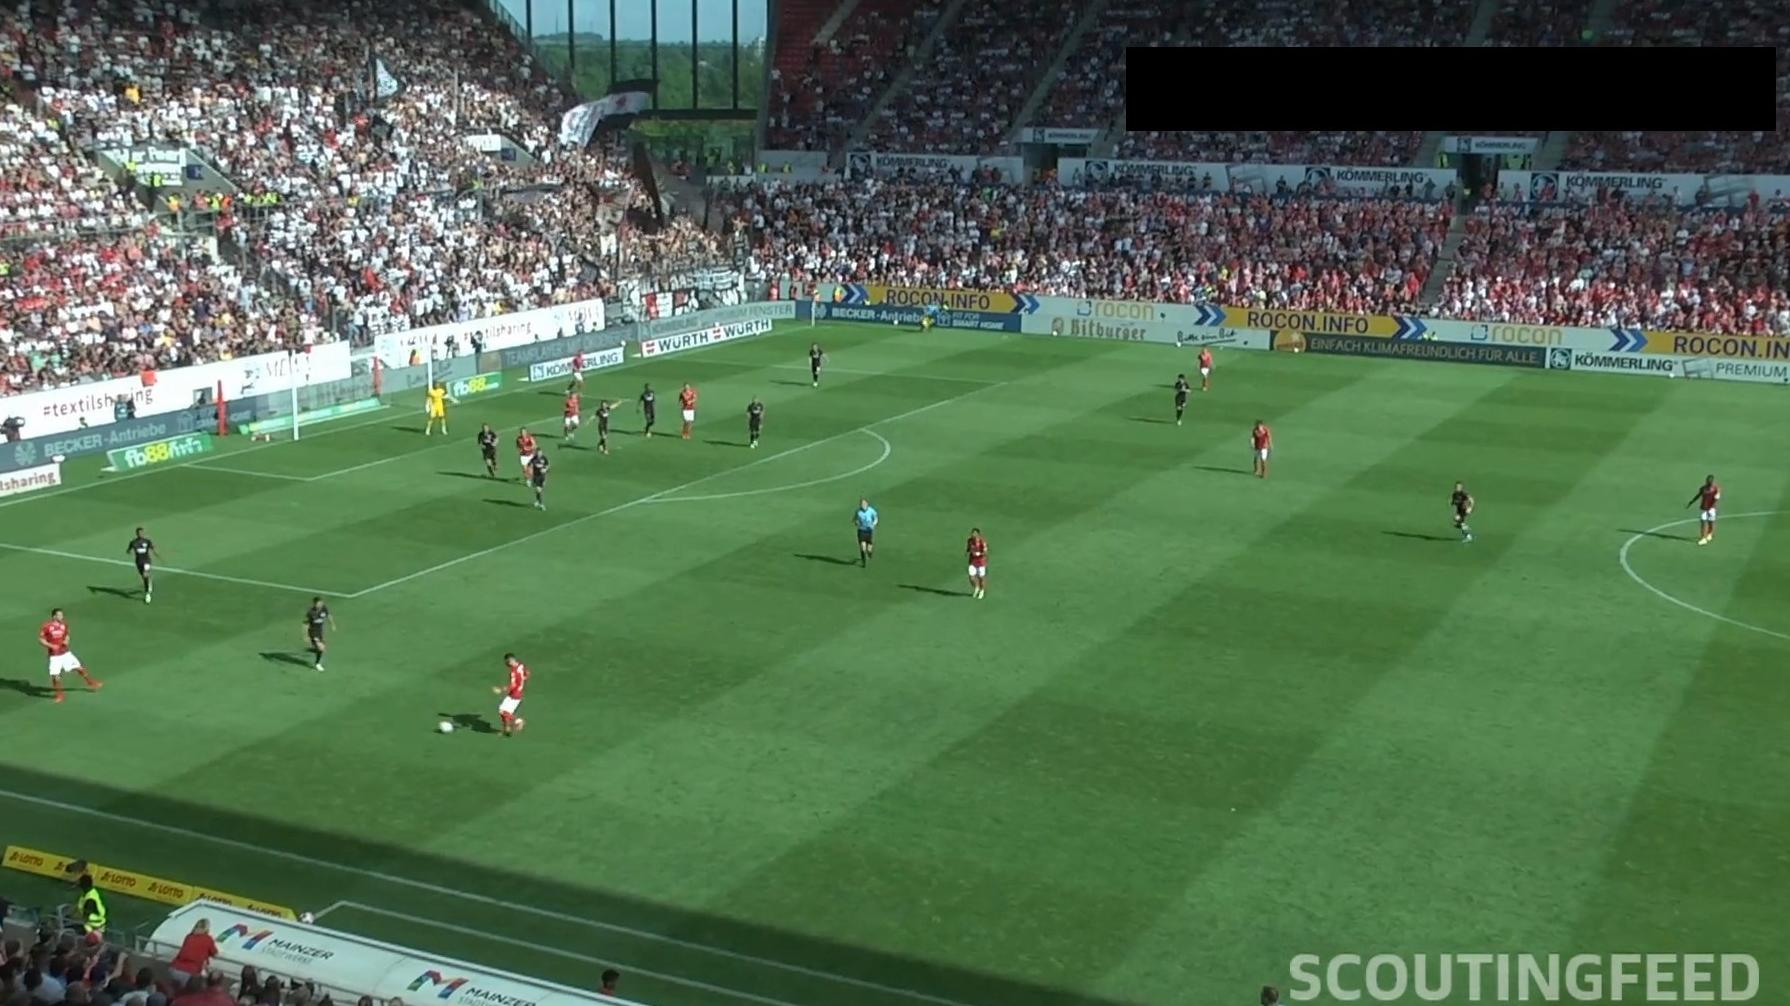ball: (438, 719, 455, 734)
